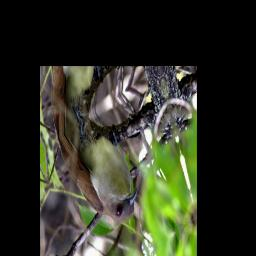Cuckoo: (57, 98, 143, 251)
